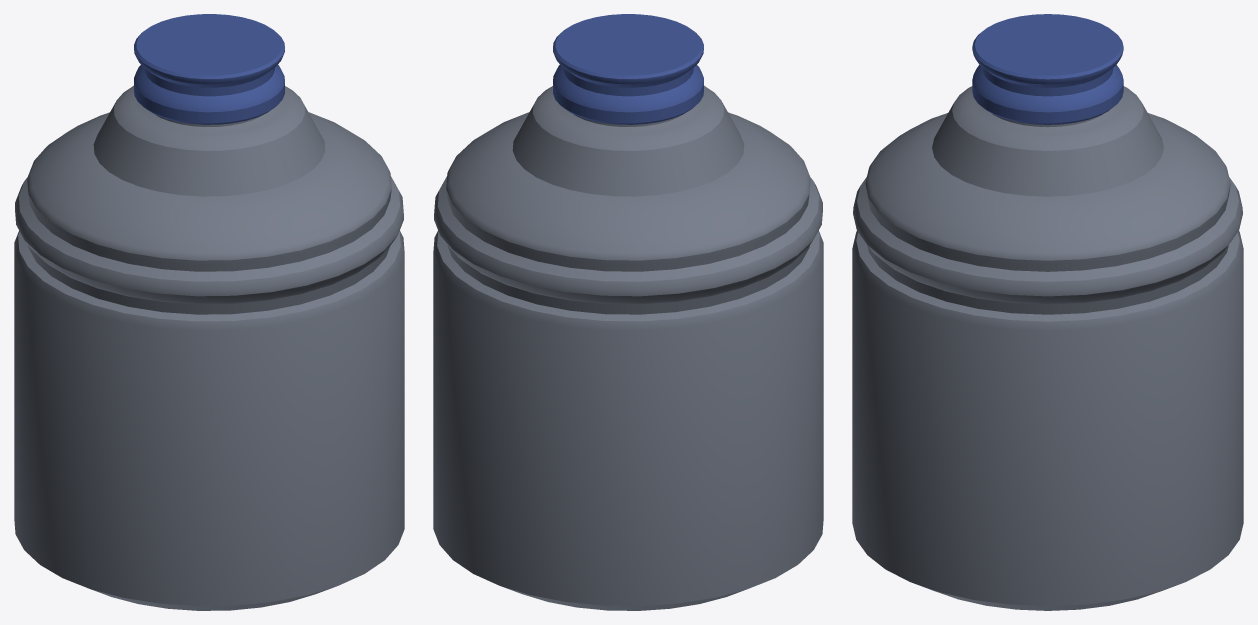
The model's file is bottle3.glb.
3 renders of one model, left to right at view 1: azimuth 30°, elevation 25°; view 2: azimuth 150°, elevation 25°; view 3: azimuth 270°, elevation 25°, orthographic.
Visible parts, largest first — view 1: Bottle3; view 2: Bottle3; view 3: Bottle3.
Boxes of the visible parts, x1=… form: Bottle3: x1=14, y1=14, x2=404, y2=610; Bottle3: x1=433, y1=14, x2=823, y2=610; Bottle3: x1=852, y1=14, x2=1243, y2=610.
Bounding box in the file's own units: 0.18 × 0.2531 × 0.18.
